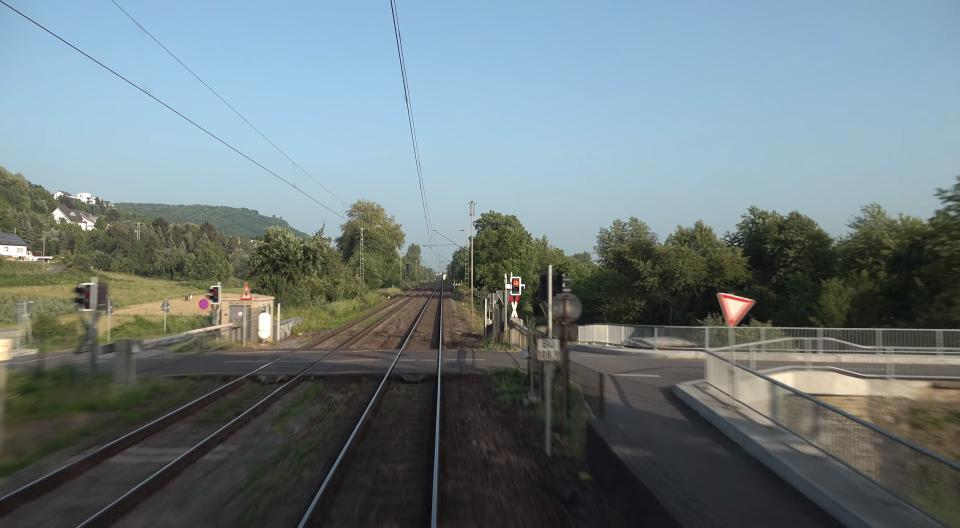Plant: (0, 379, 216, 477), (241, 380, 364, 522), (197, 384, 261, 426), (316, 308, 376, 330)
